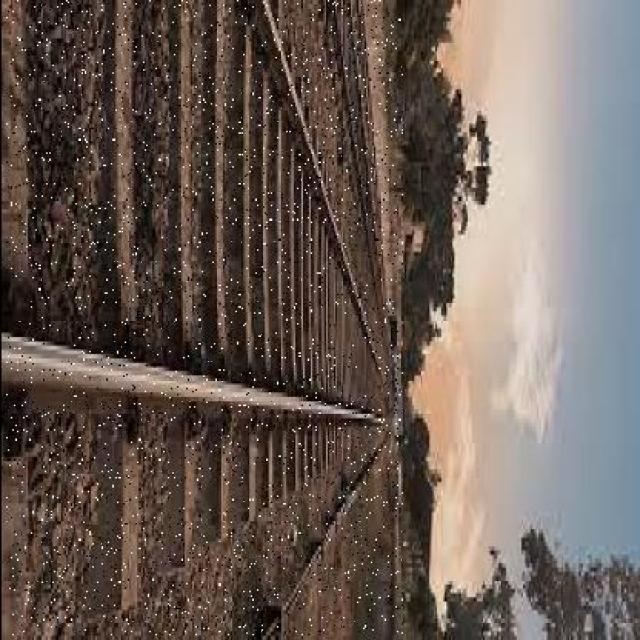rail: (5, 1, 400, 635)
